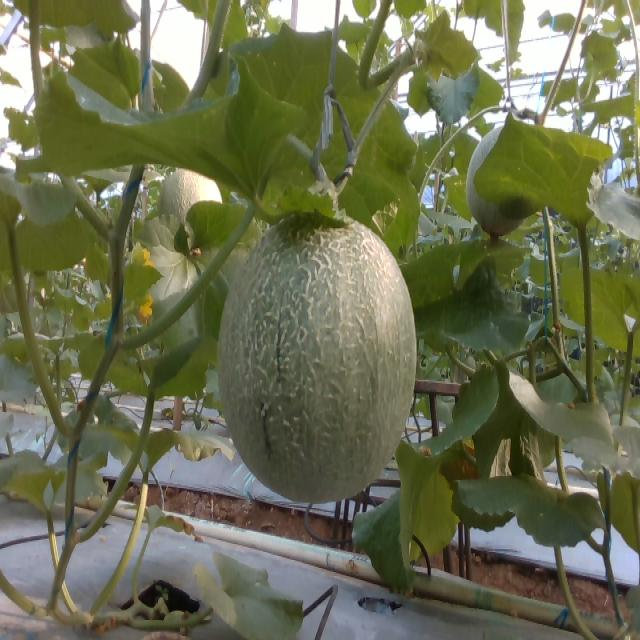melon: (219, 216, 416, 503)
